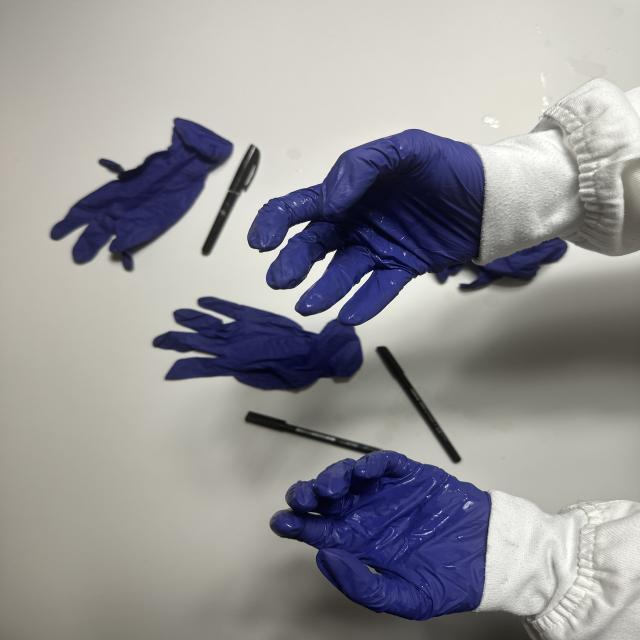gloves_contaminated: (248, 130, 486, 326), (270, 451, 490, 620)
